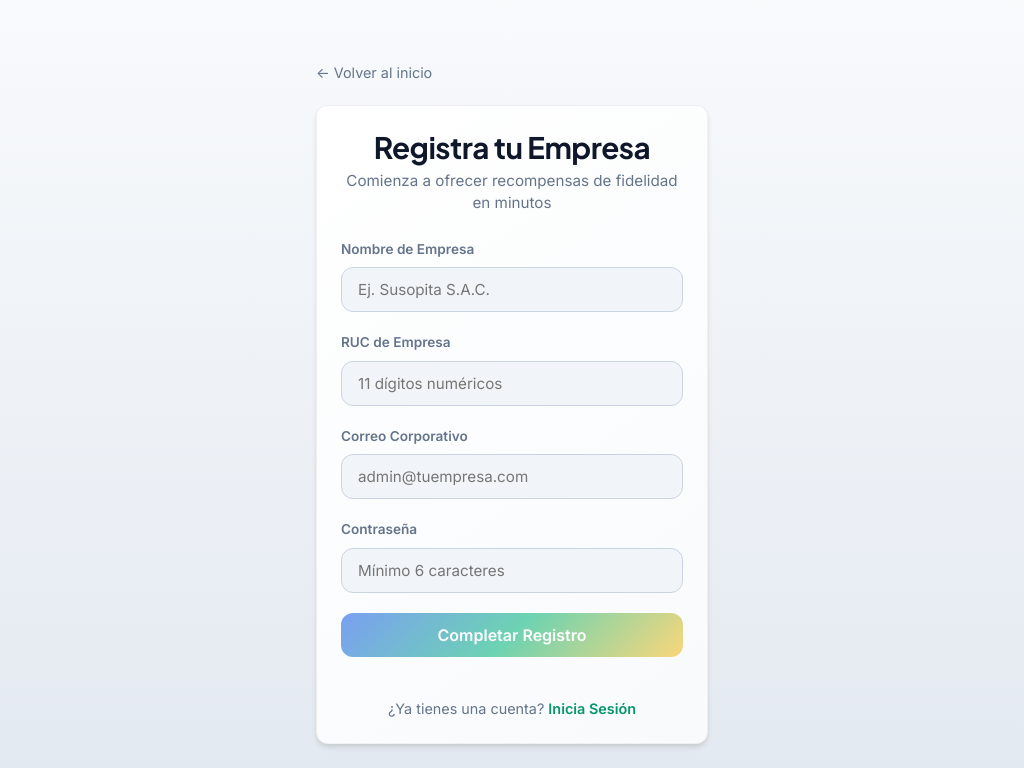
Scenario: AfiliatePage Page › should show error when RUC is less than 11 digits
In the field labelled "Nombre de Empresa": point(512, 290) [341,268,683,312], type "SusoCorp"
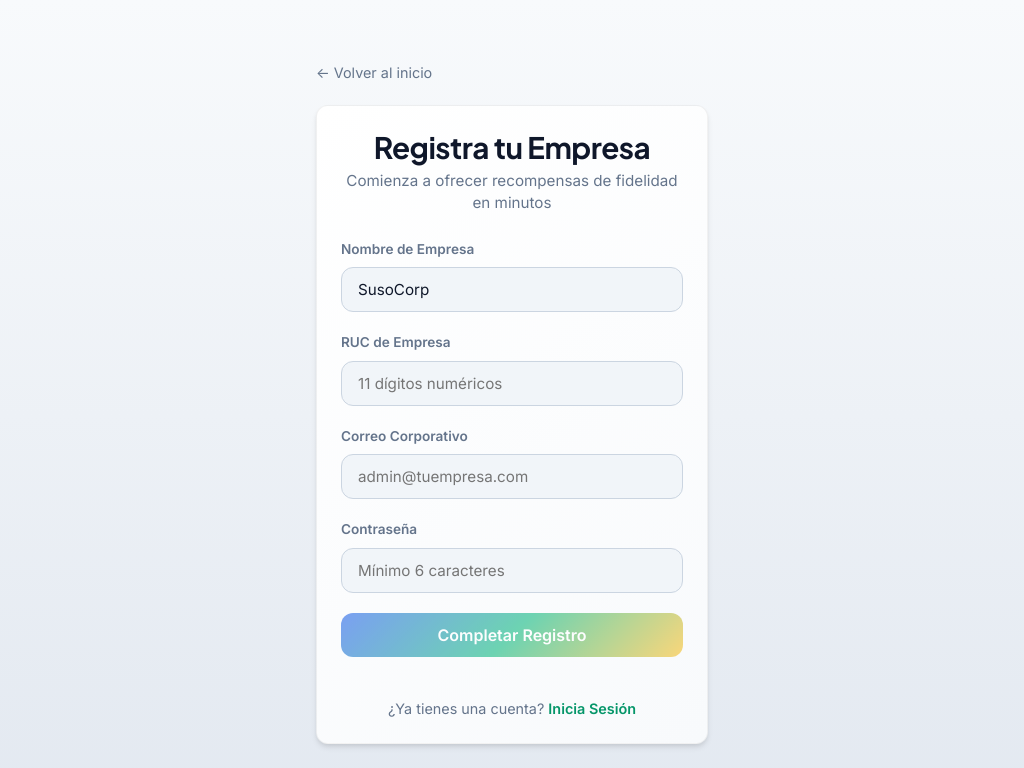
In the field labelled "RUC de Empresa": point(512, 383) [341,361,683,406], type "123456789"
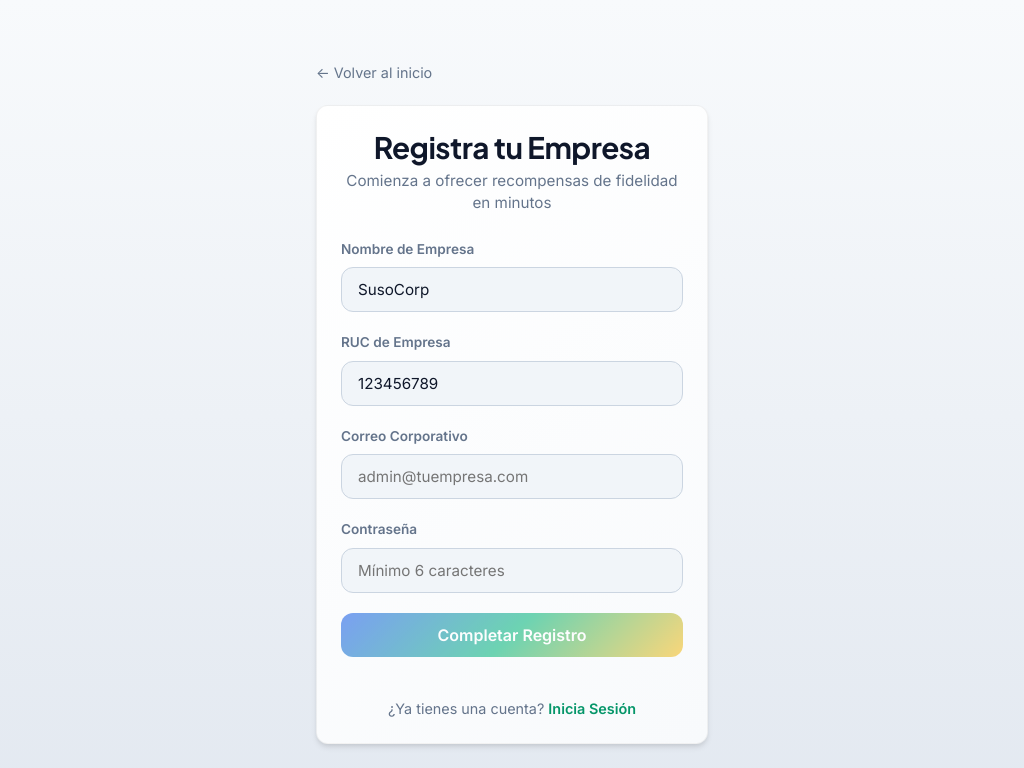
In the field labelled "Correo Corporativo": point(512, 477) [341,454,683,499], type "admin@susocorp.com"
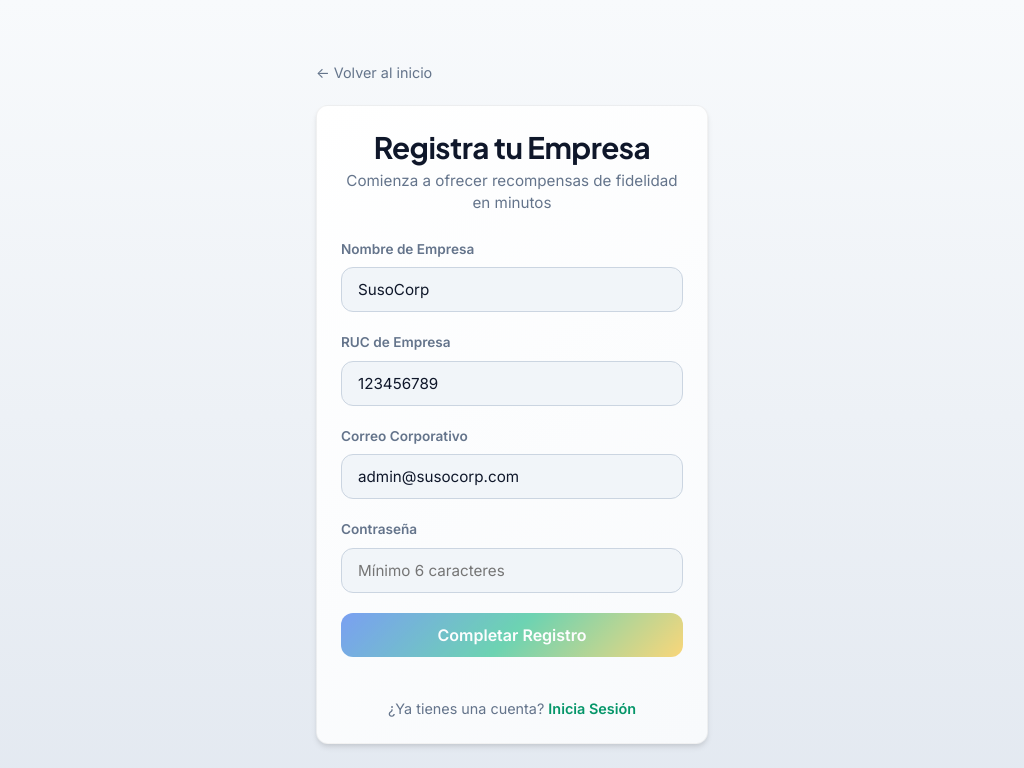
In the password field labelled "Contraseña": point(512, 570) [341,548,683,593], type "pwd123"
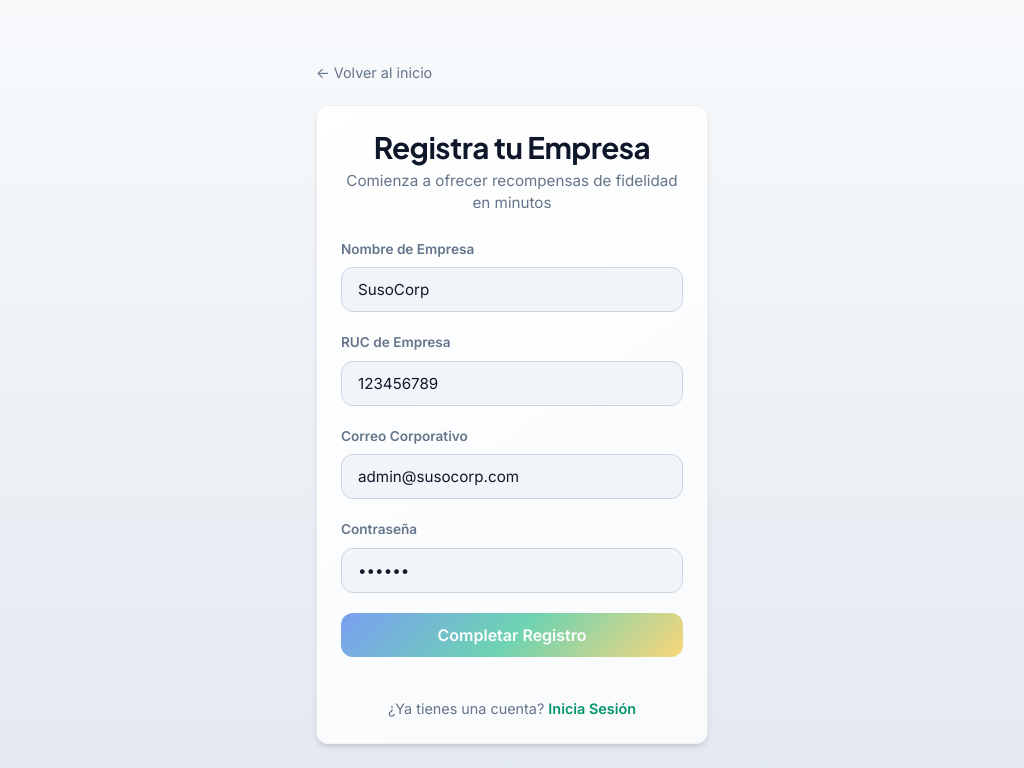
Submit the form with test id "register-form", box [341,239,683,657]
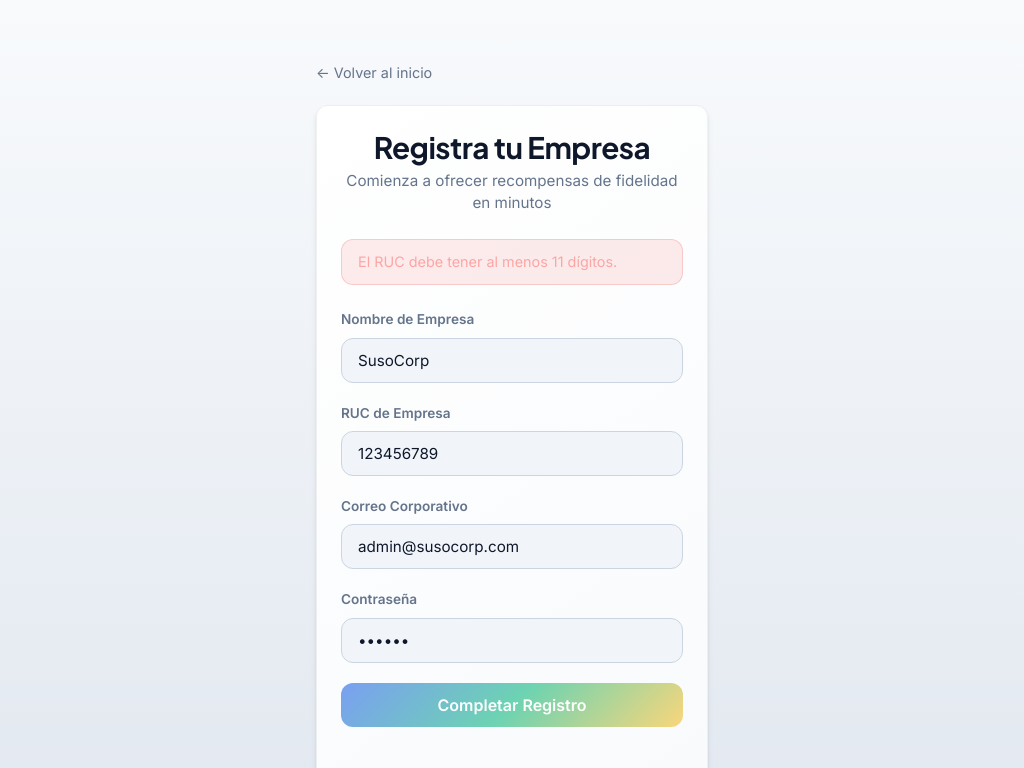
Result: the text with test id "error-alert" reads "El RUC debe tener al menos 11 dígitos." at [358,253,617,270]
